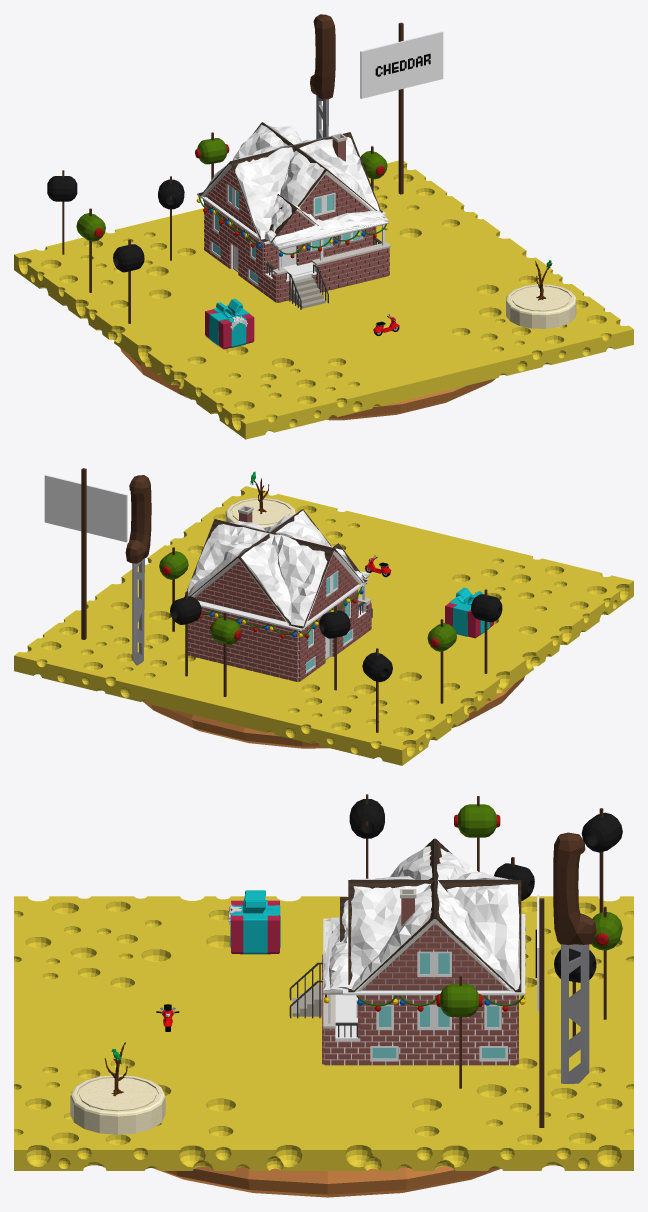
The picture shows the model from 3 angles, top to bottom: view 1: azimuth 30°, elevation 25°; view 2: azimuth 150°, elevation 25°; view 3: azimuth 270°, elevation 25°; orthographic projection. The views are drawn at different scales.
Visible parts, largest first — view 1: Cube.022, Cube.1419, Cube.023, Cylinder.016, Cube.024, UNDERGROUND_PIZZA, OBJRANDOM_GIANT_PRESENT, Sphere.017, Sphere.016, Sphere.018, Sphere.020, Sphere.022 (+1 smaller); view 2: Cube.022, Cube.1419, Cube.023, Cube.024, UNDERGROUND_PIZZA, OBJRANDOM_GIANT_PRESENT, Cylinder.016, Sphere.017, Sphere.022, Sphere.020, Sphere.021, Sphere.018 (+2 smaller); view 3: Cube.022, Cube.1419, Cube.024, UNDERGROUND_PIZZA, Cylinder.016, OBJRANDOM_GIANT_PRESENT, Cube.023, Sphere.016, Sphere.019, Sphere.018, Sphere.017, Sphere.022 (+2 smaller).
Boxes of the visible parts, x1=… form: Cube.022: x1=14, y1=160, x2=633, y2=439; Cube.1419: x1=196, y1=122, x2=390, y2=309; Cube.023: x1=360, y1=22, x2=443, y2=194; Cylinder.016: x1=506, y1=284, x2=576, y2=328; Cube.024: x1=310, y1=14, x2=335, y2=138; UNDERGROUND_PIZZA: x1=120, y1=348, x2=495, y2=420; OBJRANDOM_GIANT_PRESENT: x1=205, y1=298, x2=254, y2=349; Sphere.017: x1=113, y1=239, x2=144, y2=323; Sphere.016: x1=47, y1=170, x2=77, y2=254; Sphere.018: x1=76, y1=208, x2=105, y2=292; Sphere.020: x1=158, y1=176, x2=184, y2=260; Sphere.022: x1=195, y1=132, x2=229, y2=179; Cube.022: x1=14, y1=486, x2=633, y2=765; Cube.1419: x1=183, y1=505, x2=372, y2=681; Cube.023: x1=44, y1=468, x2=127, y2=639; Cube.024: x1=125, y1=475, x2=151, y2=665; UNDERGROUND_PIZZA: x1=143, y1=676, x2=524, y2=748; OBJRANDOM_GIANT_PRESENT: x1=445, y1=587, x2=493, y2=638; Cylinder.016: x1=225, y1=498, x2=295, y2=528; Sphere.017: x1=471, y1=589, x2=502, y2=673; Sphere.022: x1=210, y1=612, x2=241, y2=696; Sphere.020: x1=319, y1=606, x2=350, y2=690; Sphere.021: x1=170, y1=592, x2=201, y2=676; Sphere.018: x1=427, y1=619, x2=456, y2=703; Cube.022: x1=14, y1=896, x2=633, y2=1170; Cube.1419: x1=289, y1=838, x2=525, y2=1065; Cube.024: x1=553, y1=832, x2=596, y2=1083; UNDERGROUND_PIZZA: x1=152, y1=1166, x2=500, y2=1197; Cylinder.016: x1=70, y1=1075, x2=165, y2=1134; OBJRANDOM_GIANT_PRESENT: x1=228, y1=890, x2=280, y2=954; Cube.023: x1=535, y1=894, x2=544, y2=1127; Sphere.016: x1=581, y1=808, x2=622, y2=912; Sphere.019: x1=436, y1=975, x2=482, y2=1088; Sphere.018: x1=454, y1=796, x2=500, y2=871; Sphere.017: x1=349, y1=794, x2=384, y2=878; Sphere.022: x1=591, y1=906, x2=622, y2=1019.
Size of the model in its own units: 3917 by 2219 by 4000.
47 materials, 3 textured.
